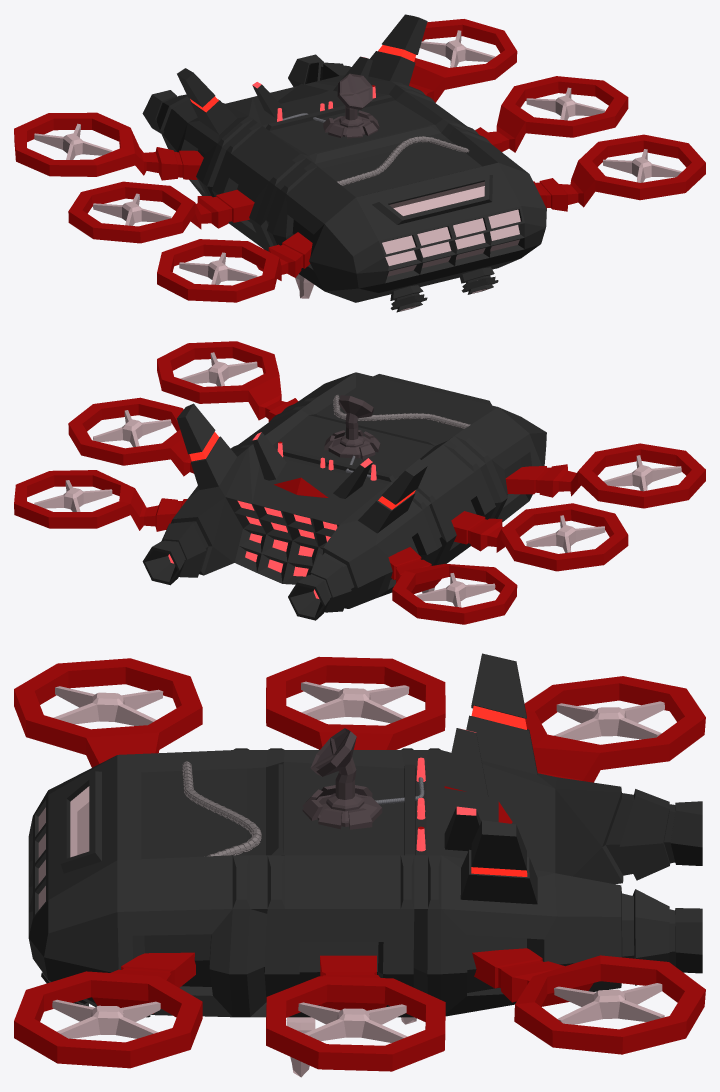
The model's file is Drone Junk.fbx.
3 views of the same model, one above another, from view 1: azimuth 30°, elevation 25°; view 2: azimuth 150°, elevation 25°; view 3: azimuth 270°, elevation 25° (orthographic). The views are drawn at different scales.
Parts seen in each view (by area): view 1: Drone, Cabel 2; view 2: Drone, Cabel 2; view 3: Drone, Cabel 2.
Part boxes in pixels (x1=…): Drone: x1=14, y1=14, x2=705, y2=312; Cabel 2: x1=337, y1=136, x2=469, y2=185; Drone: x1=14, y1=341, x2=705, y2=624; Cabel 2: x1=333, y1=394, x2=470, y2=428; Drone: x1=14, y1=653, x2=705, y2=1077; Cabel 2: x1=182, y1=761, x2=261, y2=856.
Size of the model in its own units: 10.21 by 3.58 by 7.55.
